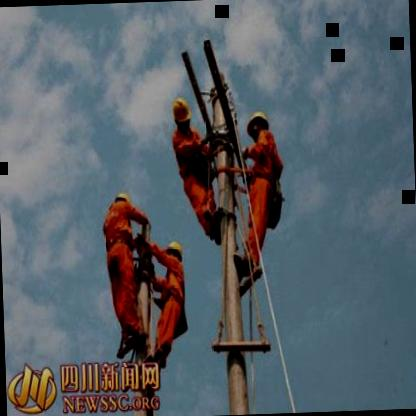helmet: (242, 106, 272, 142), (168, 93, 193, 131), (160, 239, 183, 263)
